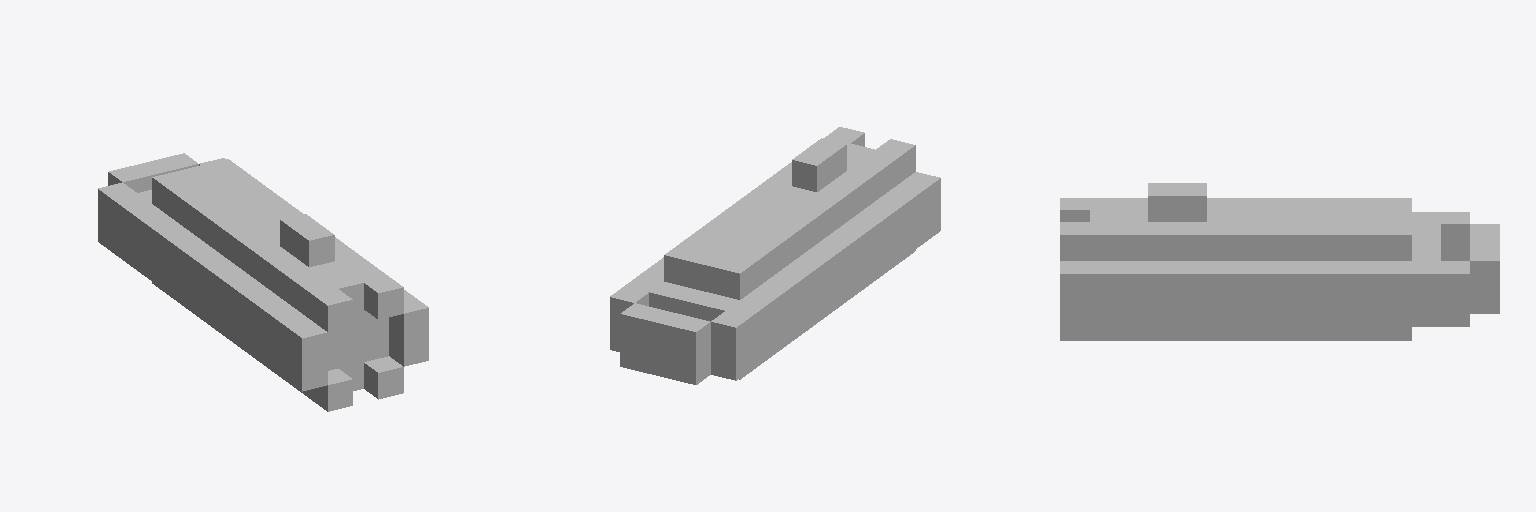
The model's file is HugeLazerPointer.obj.
3 views of the same model, side by side, from view 1: azimuth 30°, elevation 25°; view 2: azimuth 150°, elevation 25°; view 3: azimuth 270°, elevation 25° (orthographic).
Parts seen in each view (by area): view 1: HugeLazerPointer:Mesh; view 2: HugeLazerPointer:Mesh; view 3: HugeLazerPointer:Mesh.
Part boxes in pixels (x1,y1,x2,y2): HugeLazerPointer:Mesh: (98,153,428,411); HugeLazerPointer:Mesh: (610,127,940,384); HugeLazerPointer:Mesh: (1060,183,1499,340).
Bounding box in the file's own units: 0.5 × 0.5 × 1.5.